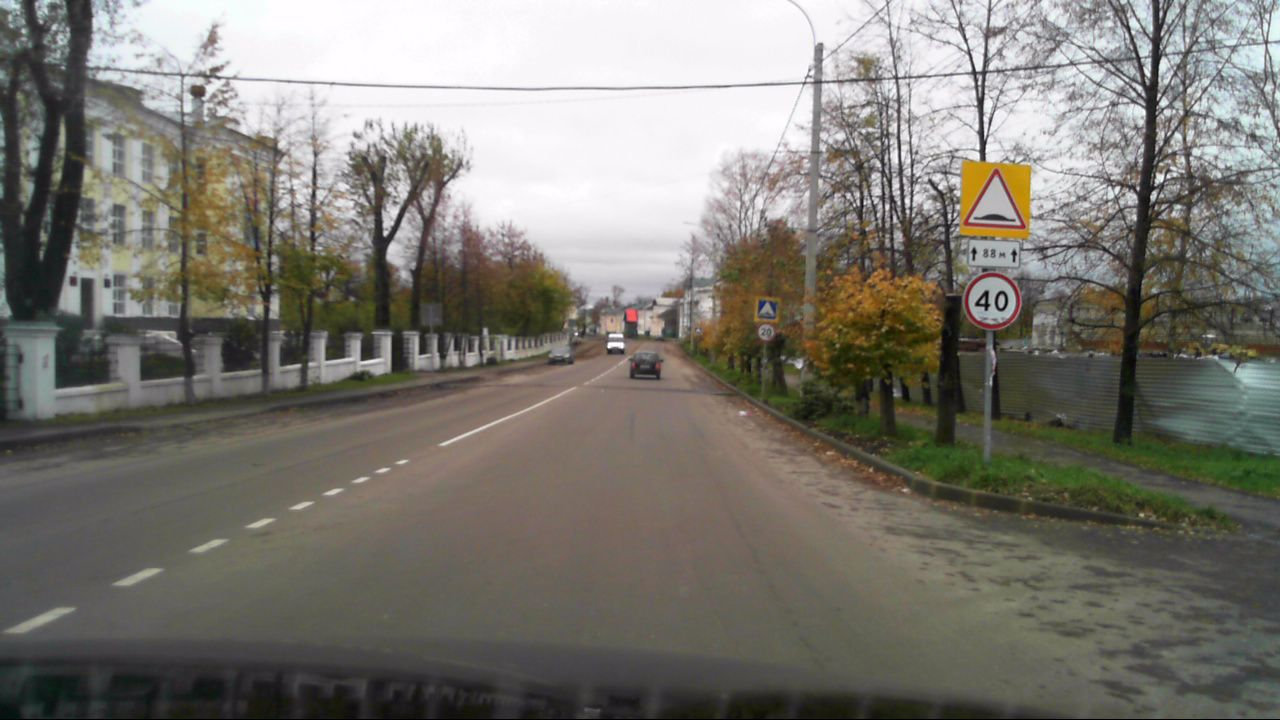speed_warning_40: (962, 272, 1020, 331)
